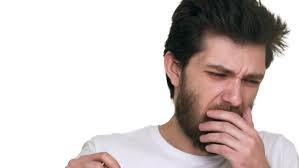white_male: (154, 25, 261, 148)
